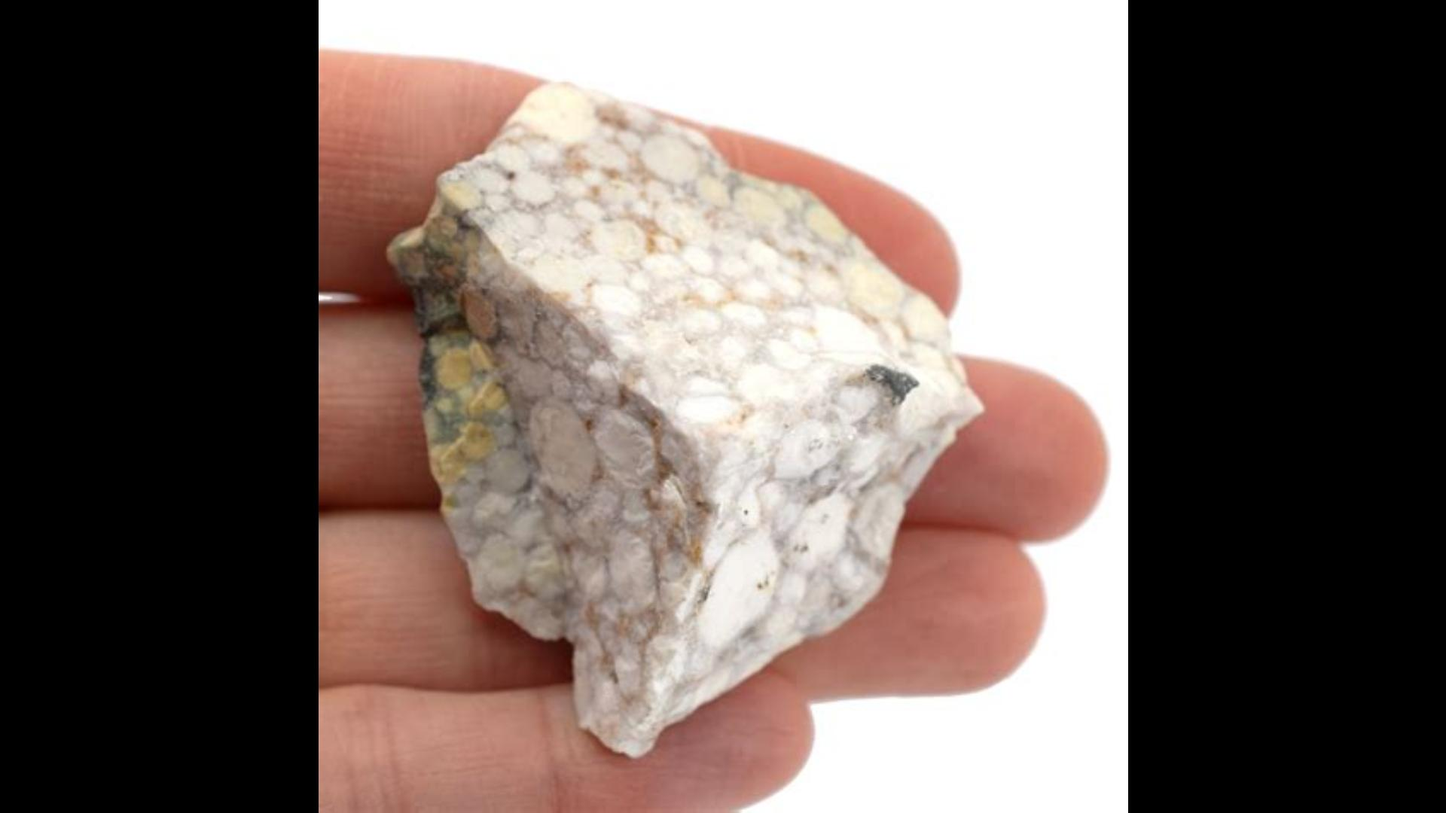rock: (390, 85, 977, 753)
